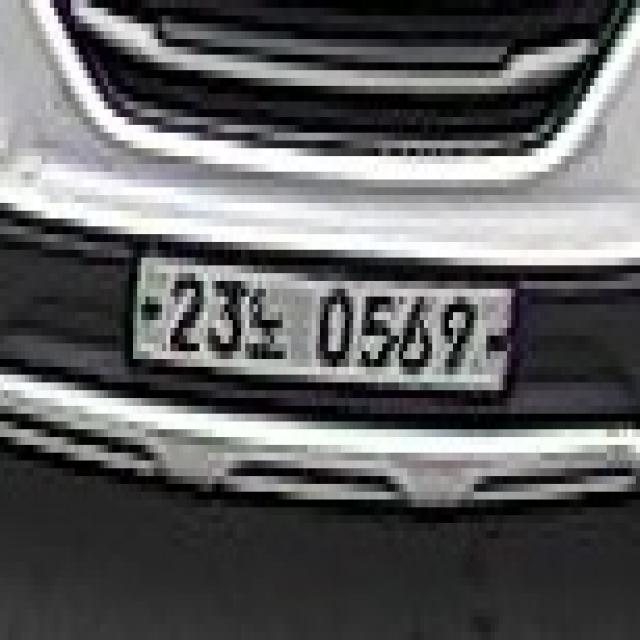0: (313, 281, 357, 375)
2: (166, 270, 208, 361)
3: (207, 270, 250, 367)
5: (357, 285, 401, 375)
6: (398, 289, 437, 382)
9: (441, 288, 482, 384)
license_plate: (127, 250, 521, 396)
no: (247, 277, 292, 367)
